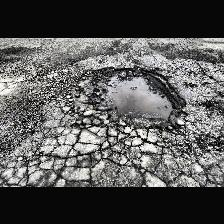pothole: (65, 64, 188, 132)
